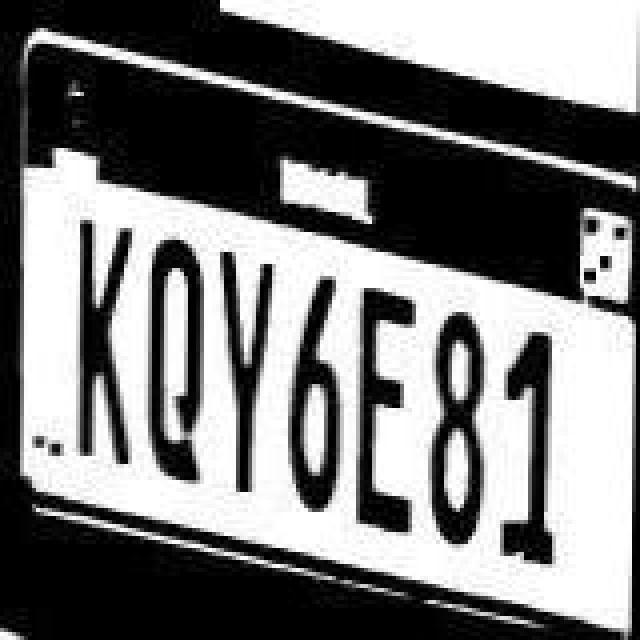1: (498, 326, 570, 578)
6: (284, 268, 356, 516)
8: (424, 306, 500, 558)
E: (356, 284, 420, 548)
K: (70, 218, 138, 470)
Q: (142, 234, 218, 494)
Y: (214, 244, 282, 500)
